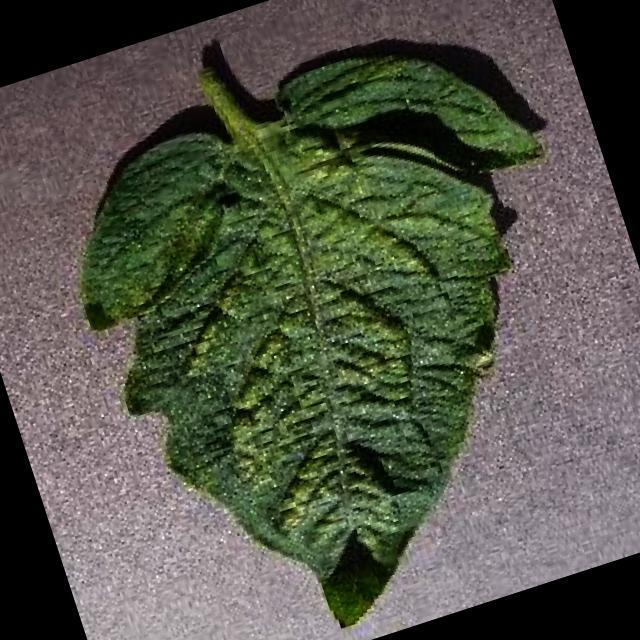Tomato spider mites leaf: (35, 5, 640, 640)
